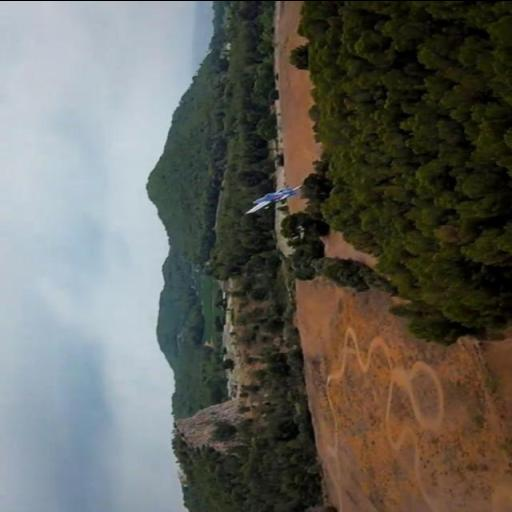uav: (246, 182, 302, 212)
